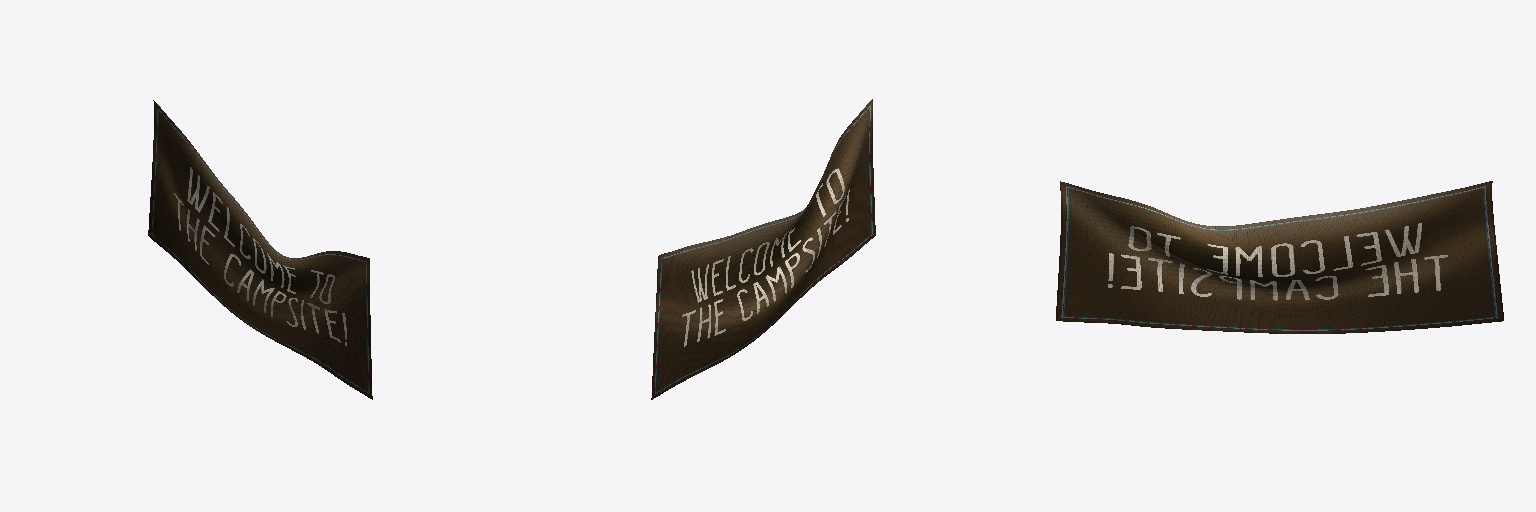
3 renders of one model, left to right at view 1: azimuth 30°, elevation 25°; view 2: azimuth 150°, elevation 25°; view 3: azimuth 270°, elevation 25°, orthographic.
Visible parts, largest first — view 1: pPlane9; view 2: pPlane9; view 3: pPlane9.
Boxes of the visible parts, <box> form: pPlane9: <box>148,100,372,399</box>; pPlane9: <box>651,99,875,399</box>; pPlane9: <box>1056,181,1503,333</box>.
Size of the model in its own units: 0.3142 by 3.54 by 9.33.
1 materials, 1 textured.